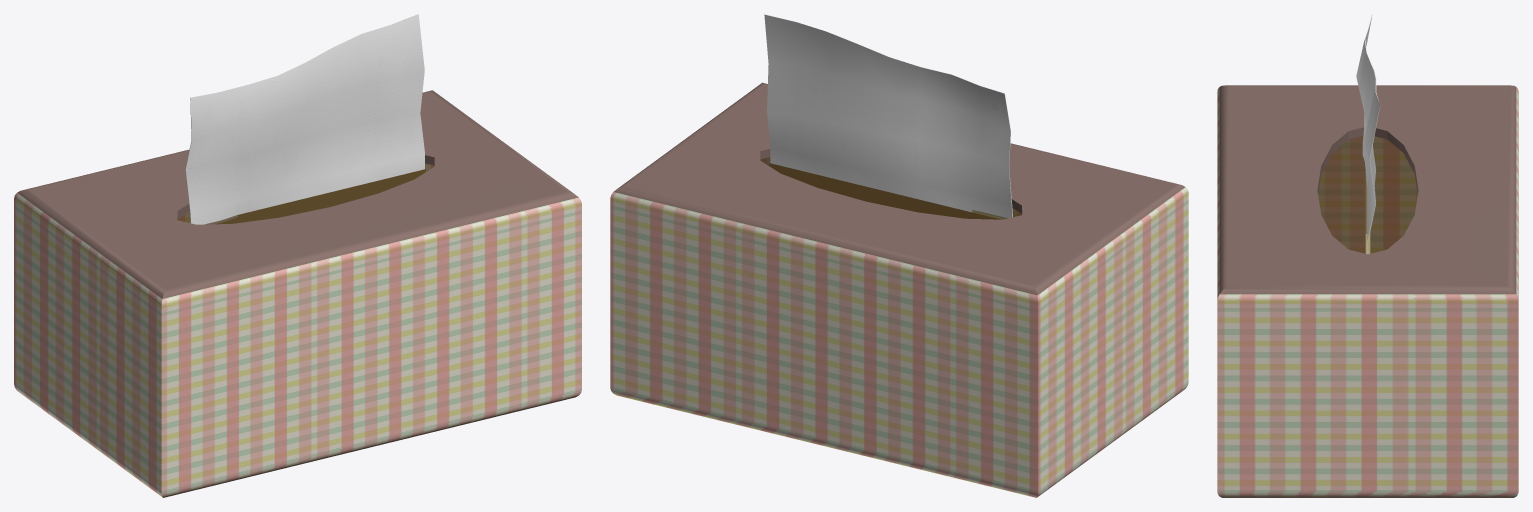
Rendered from tissue.fbx.
The picture shows the model from 3 angles, left to right: view 1: azimuth 30°, elevation 25°; view 2: azimuth 150°, elevation 25°; view 3: azimuth 270°, elevation 25°; orthographic projection. The views are drawn at different scales.
Parts seen in each view (by area): view 1: tissue; view 2: tissue; view 3: tissue.
Boxes of the visible parts, x1,y1,x2,y2 form: tissue: (14,14,581,497); tissue: (610,14,1188,497); tissue: (1217,14,1518,497).
Size of the model in its own units: 0.0107 by 0.0085 by 0.00653.
5 materials, 2 textured.
